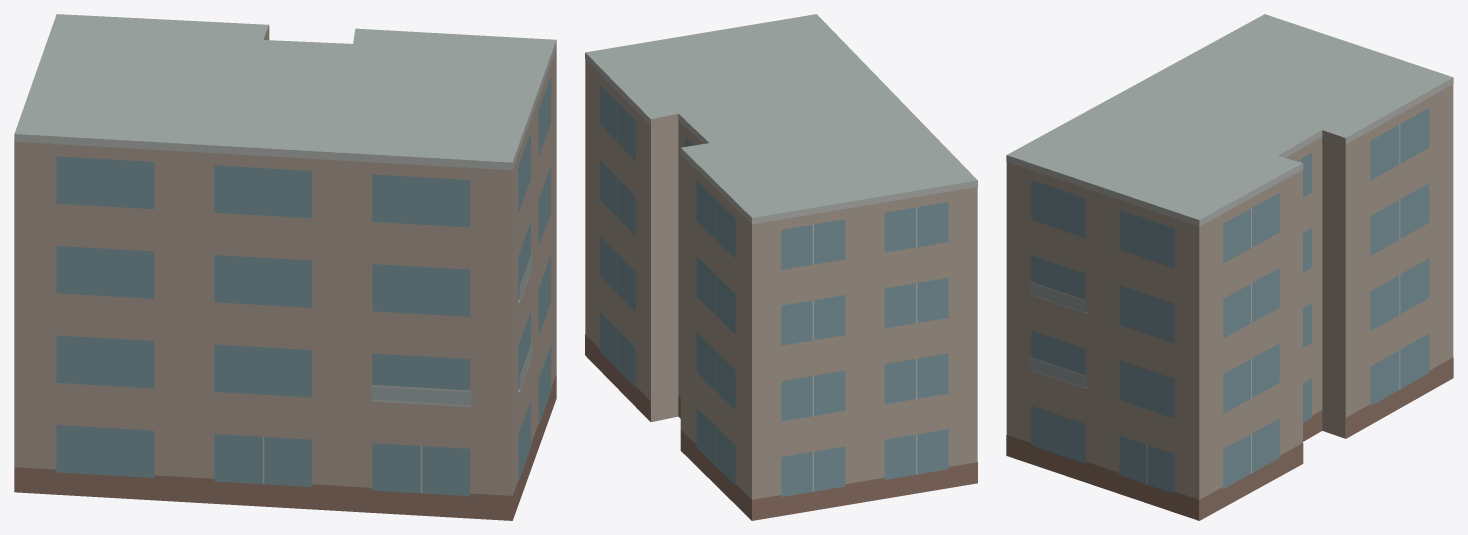
The model's file is survey-upis-32799617.glb.
3 renders of one model, left to right at view 1: azimuth 30°, elevation 25°; view 2: azimuth 150°, elevation 25°; view 3: azimuth 270°, elevation 25°, orthographic. The views are drawn at different scales.
Visible parts, largest first — view 1: survey-upis-32799617.tmp; view 2: survey-upis-32799617.tmp; view 3: survey-upis-32799617.tmp.
Boxes of the visible parts, left/top/right/bottom form: survey-upis-32799617.tmp: left=14, top=14, right=556, bottom=520; survey-upis-32799617.tmp: left=585, top=14, right=977, bottom=520; survey-upis-32799617.tmp: left=1006, top=14, right=1453, bottom=520.
Bounding box in the file's own units: 16.62 × 11.3 × 15.23.
